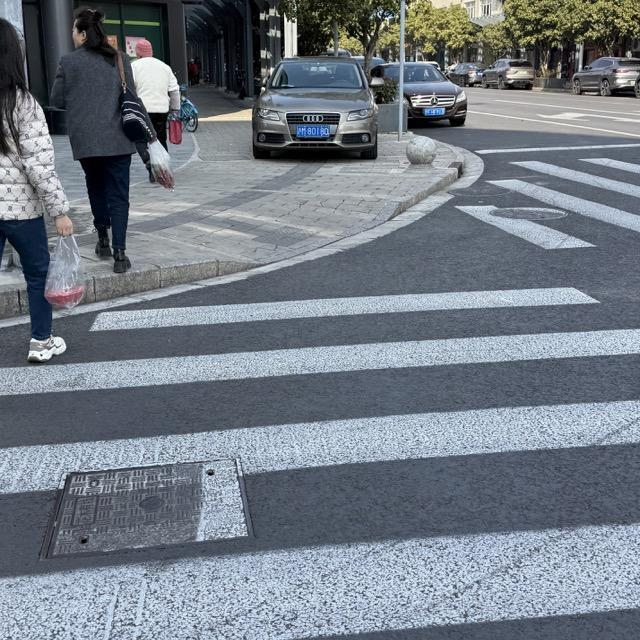curb: (81, 259, 255, 303), (385, 144, 464, 221), (0, 289, 26, 319)
